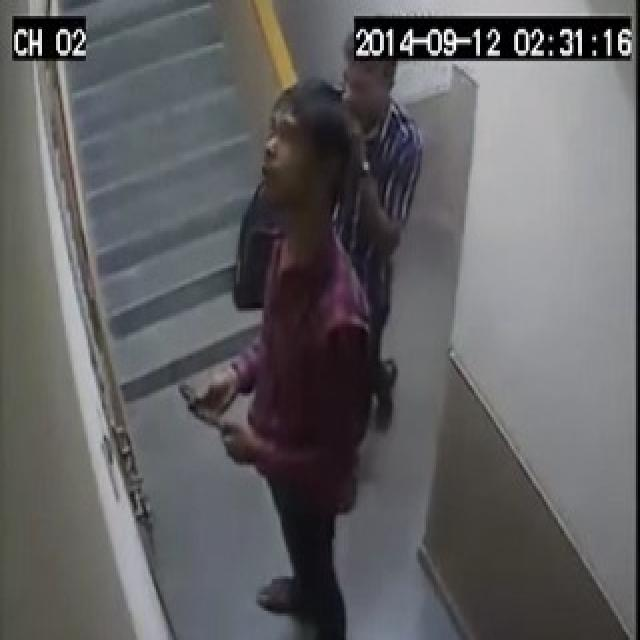thief: (210, 53, 412, 640)
